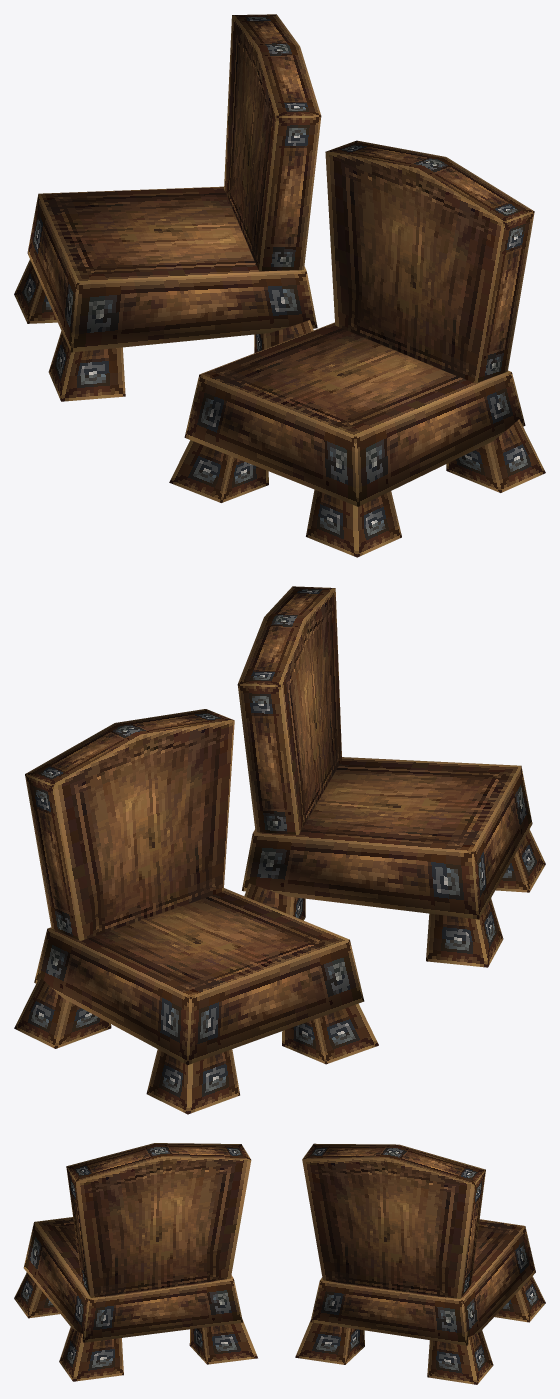
Rendered from chairs_set1.obj.
The picture shows the model from 3 angles, top to bottom: view 1: azimuth 30°, elevation 25°; view 2: azimuth 150°, elevation 25°; view 3: azimuth 270°, elevation 25°; orthographic projection. The views are drawn at different scales.
Visible parts, largest first — view 1: chairs_set1:chairs_set1; view 2: chairs_set1:chairs_set1; view 3: chairs_set1:chairs_set1.
Boxes of the visible parts, box(x1,y1,x2,y2) form: chairs_set1:chairs_set1: box(14, 14, 545, 557); chairs_set1:chairs_set1: box(14, 586, 545, 1114); chairs_set1:chairs_set1: box(14, 1143, 545, 1384).
Bounding box in the file's own units: 0.6549 × 0.5873 × 1.34.
2 materials, 2 textured.
